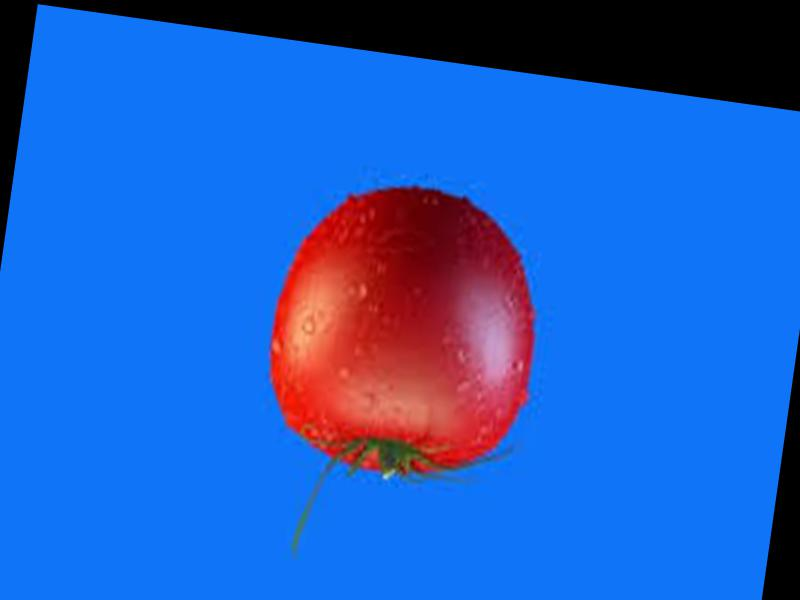Tomato: (254, 169, 556, 492)
